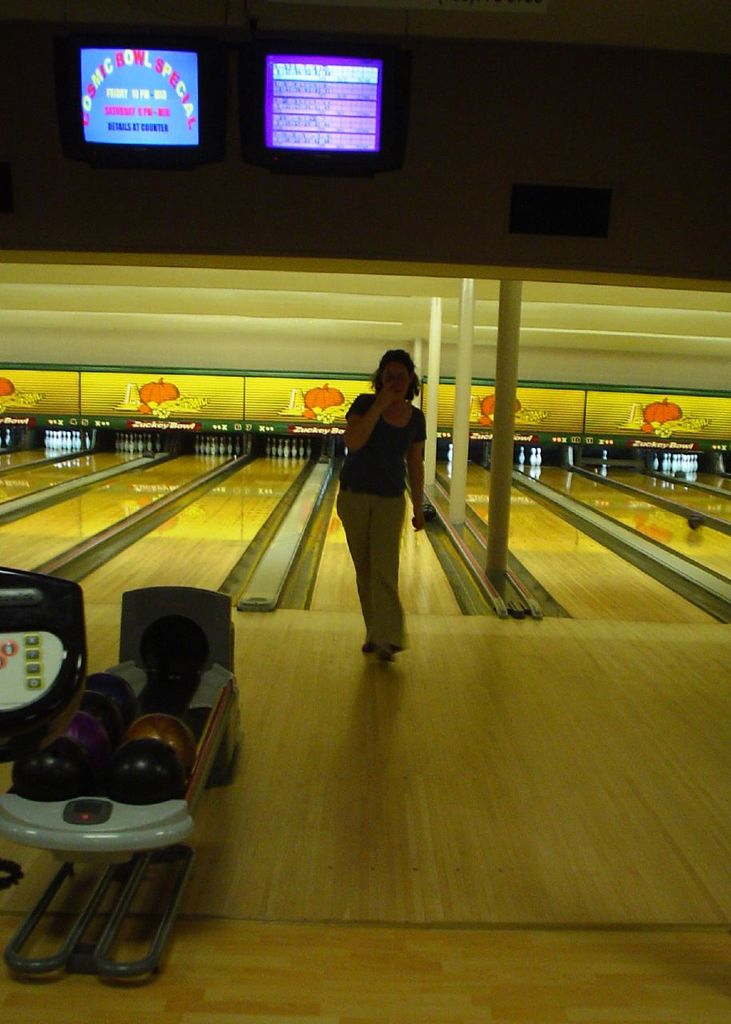Ball: (12, 735, 110, 814), (105, 746, 188, 806), (140, 714, 202, 775), (84, 666, 138, 725), (59, 712, 110, 772), (82, 684, 118, 747)
